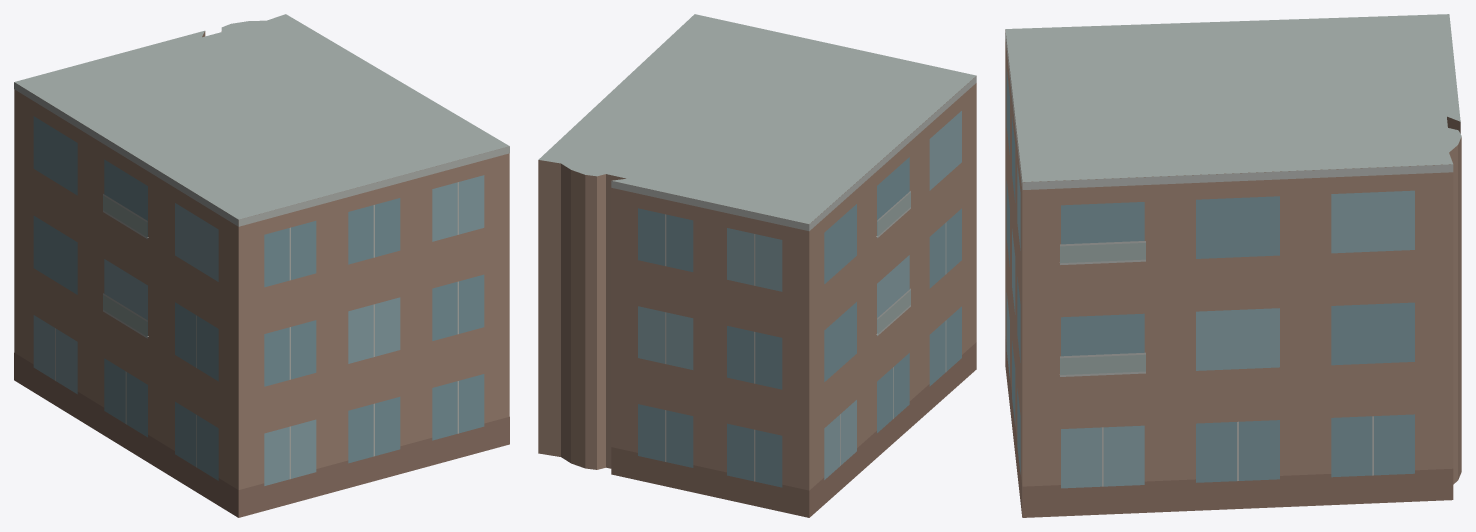
Rendered from survey-upis-32922477.glb.
3 views of the same model, side by side, from view 1: azimuth 30°, elevation 25°; view 2: azimuth 150°, elevation 25°; view 3: azimuth 270°, elevation 25° (orthographic). The views are drawn at different scales.
Parts seen in each view (by area): view 1: survey-upis-32922477.tmp; view 2: survey-upis-32922477.tmp; view 3: survey-upis-32922477.tmp.
Boxes of the visible parts, x1,y1,x2,y2 form: survey-upis-32922477.tmp: (14, 14, 509, 517); survey-upis-32922477.tmp: (538, 14, 976, 517); survey-upis-32922477.tmp: (1005, 14, 1461, 517).
Bounding box in the file's own units: 10.97 × 10.2 × 12.57.
